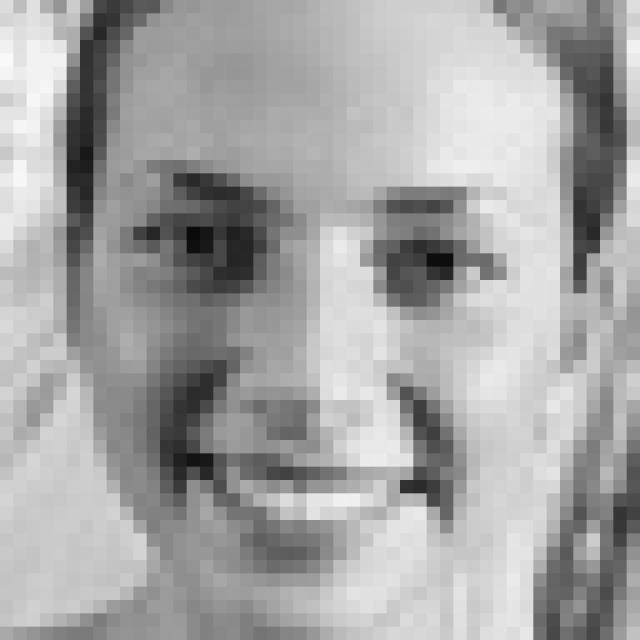happy: (120, 153, 524, 584)
